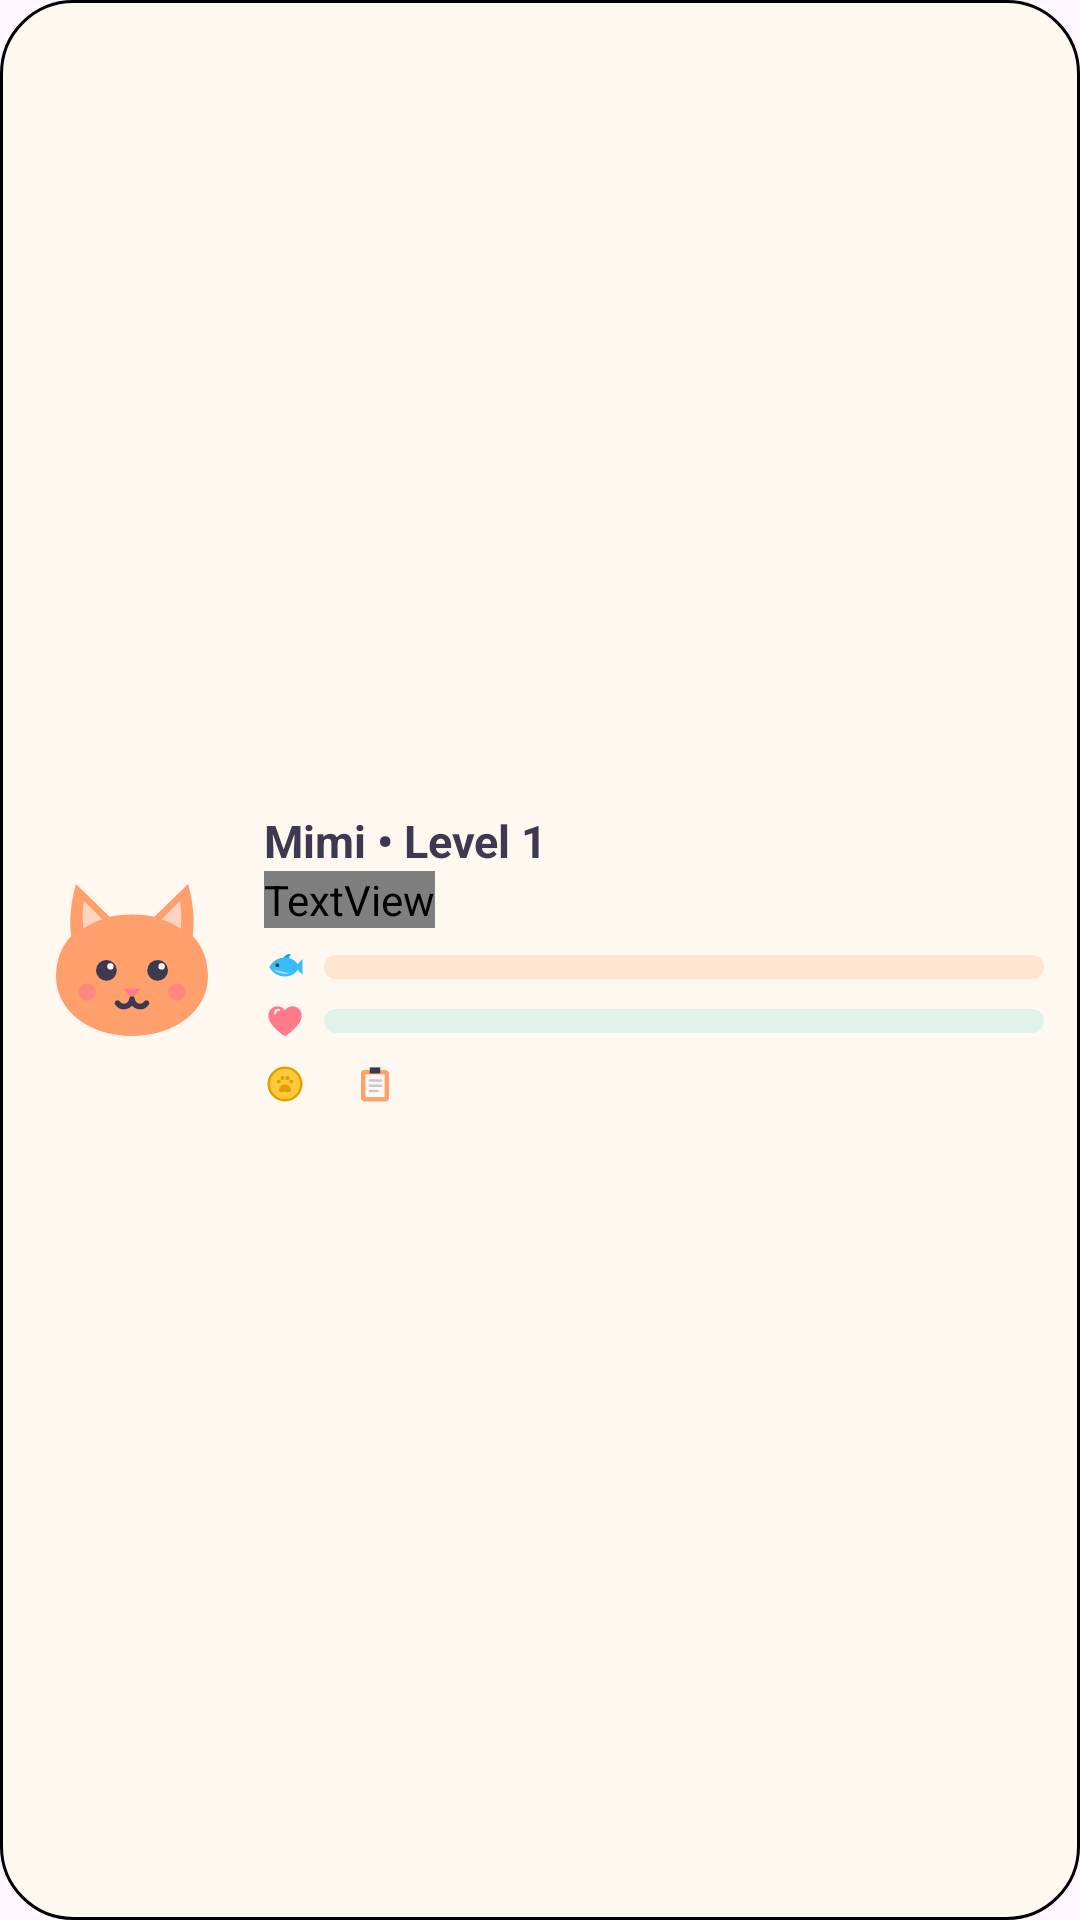

Icons on this 1080px x 1920px Android screen, each with the point to tap as (x=x, y=y):
No bụng: (x=286, y=965)
Thú cưng: (x=132, y=960)
Việc còn lại: (x=375, y=1084)
Vui vẻ: (x=285, y=1021)
Xu: (x=285, y=1084)
